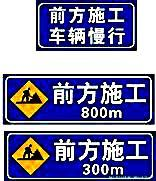sign: (4, 74, 153, 123), (6, 133, 154, 179), (37, 2, 135, 50)
